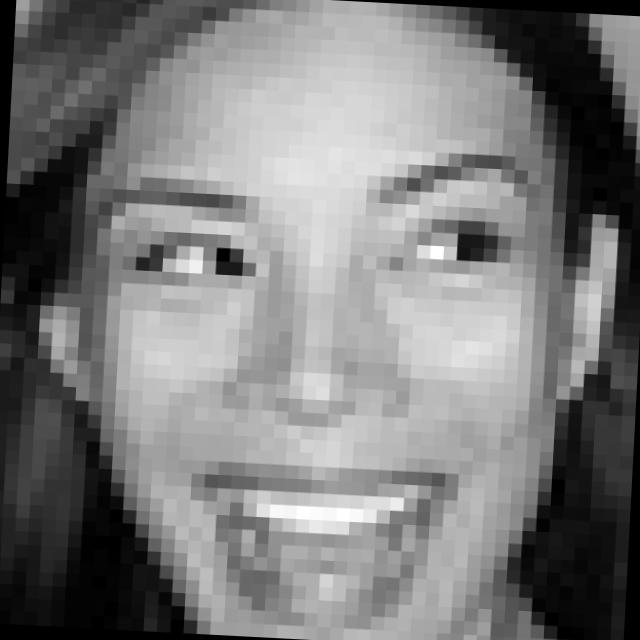happy: (83, 125, 549, 640)
